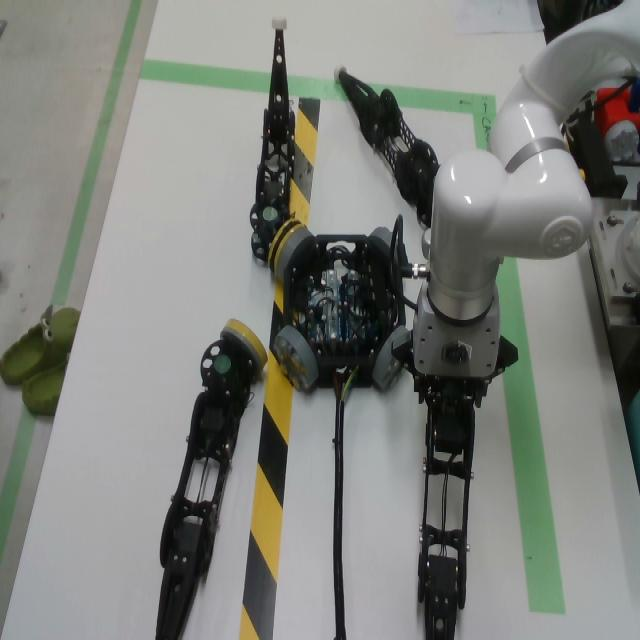body: (284, 235, 406, 388)
body_connector: (274, 325, 319, 391), (372, 325, 407, 392), (275, 227, 314, 280), (369, 227, 393, 257), (394, 240, 398, 265)
gripper: (391, 281, 519, 409)
leg: (155, 319, 268, 640), (333, 60, 440, 228), (417, 375, 476, 640), (249, 15, 304, 275)
leg_connector: (220, 319, 268, 373), (268, 220, 304, 273)
leg_marker: (214, 355, 230, 372), (263, 207, 278, 221)
